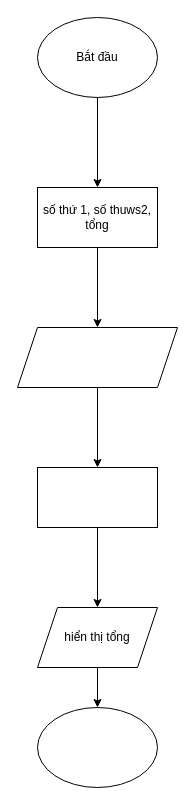
Image size: 195x805. Some labels were removed from this diagram. The shapes that lost their labels are listed below. From the top down, each one's centre as x and y in pixels, then its label:
At point (97, 357): "nhập số thứ 1, số thứ 2".
At point (97, 497): "tổng= số thứ 1 + số thứ 2".
